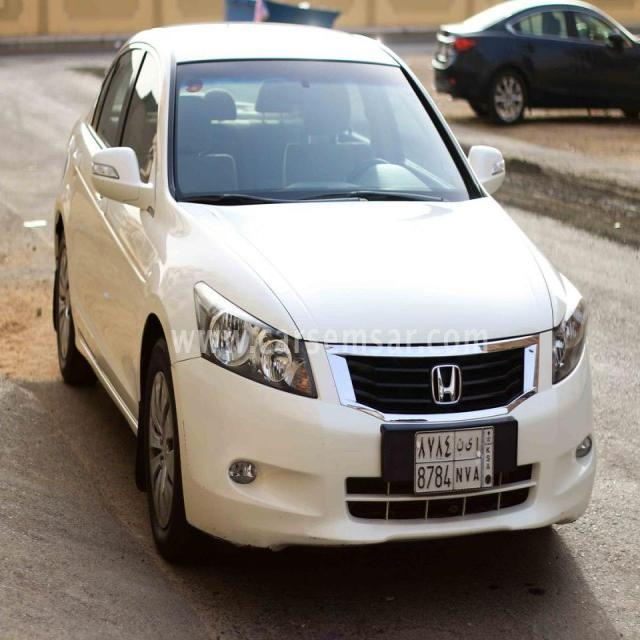license_plate: (412, 422, 497, 497)
